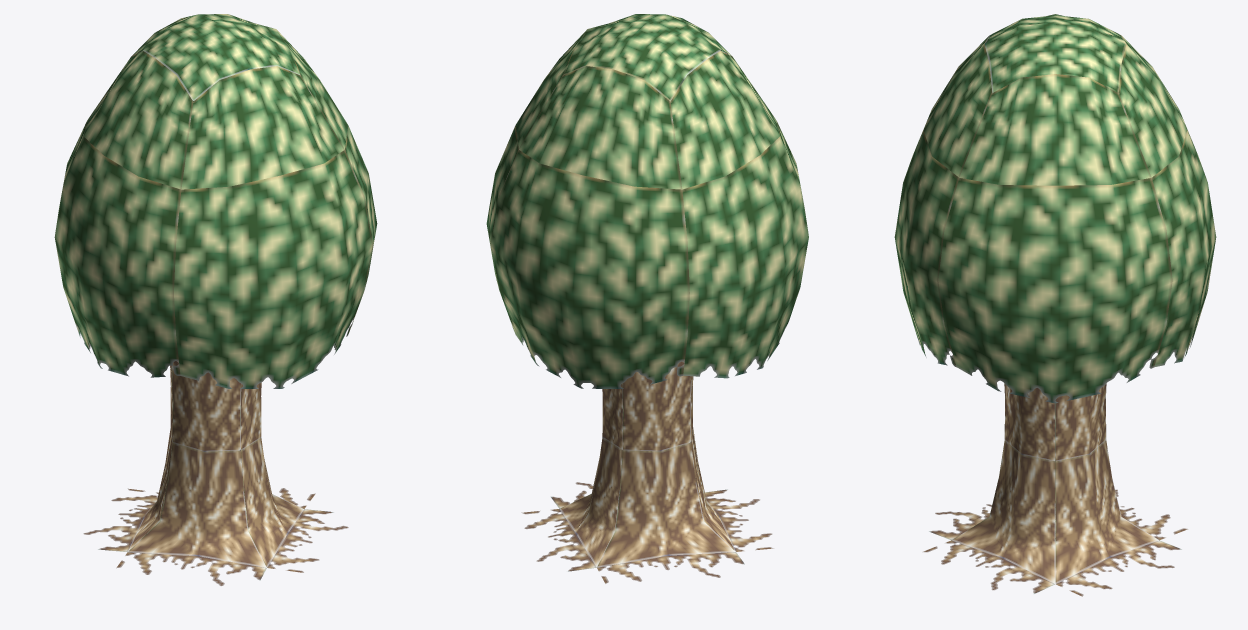
File: grasslands_Tree_hiPoly.fbx
The picture shows the model from 3 angles, left to right: view 1: azimuth 30°, elevation 25°; view 2: azimuth 150°, elevation 25°; view 3: azimuth 270°, elevation 25°; orthographic projection.
Parts seen in each view (by area): view 1: grasslands_Tree_hiPoly; view 2: grasslands_Tree_hiPoly; view 3: grasslands_Tree_hiPoly.
Part boxes in pixels (left/top/right/bottom): grasslands_Tree_hiPoly: left=54, top=14, right=377, bottom=586; grasslands_Tree_hiPoly: left=486, top=14, right=808, bottom=583; grasslands_Tree_hiPoly: left=894, top=14, right=1216, bottom=596.
Bounding box in the file's own units: 3.39 × 5.45 × 3.39.
